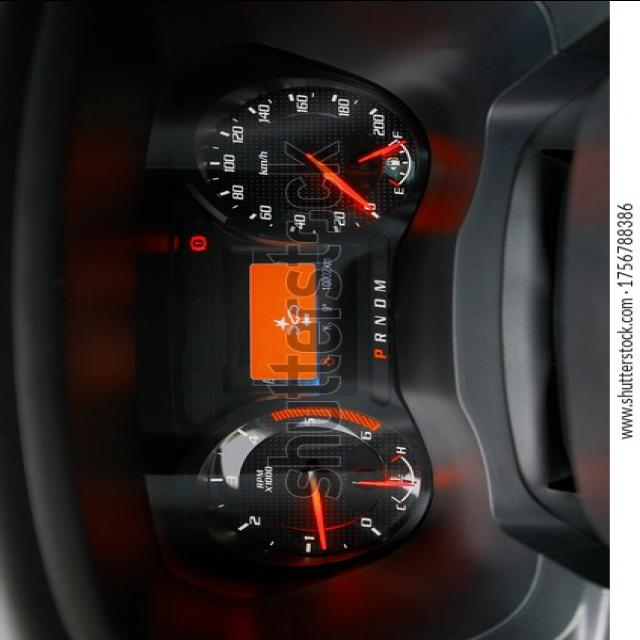Braking System Issue: (187, 232, 208, 252)
